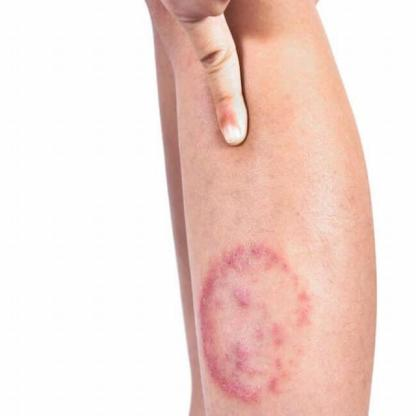Ringworm: (193, 236, 318, 405)
